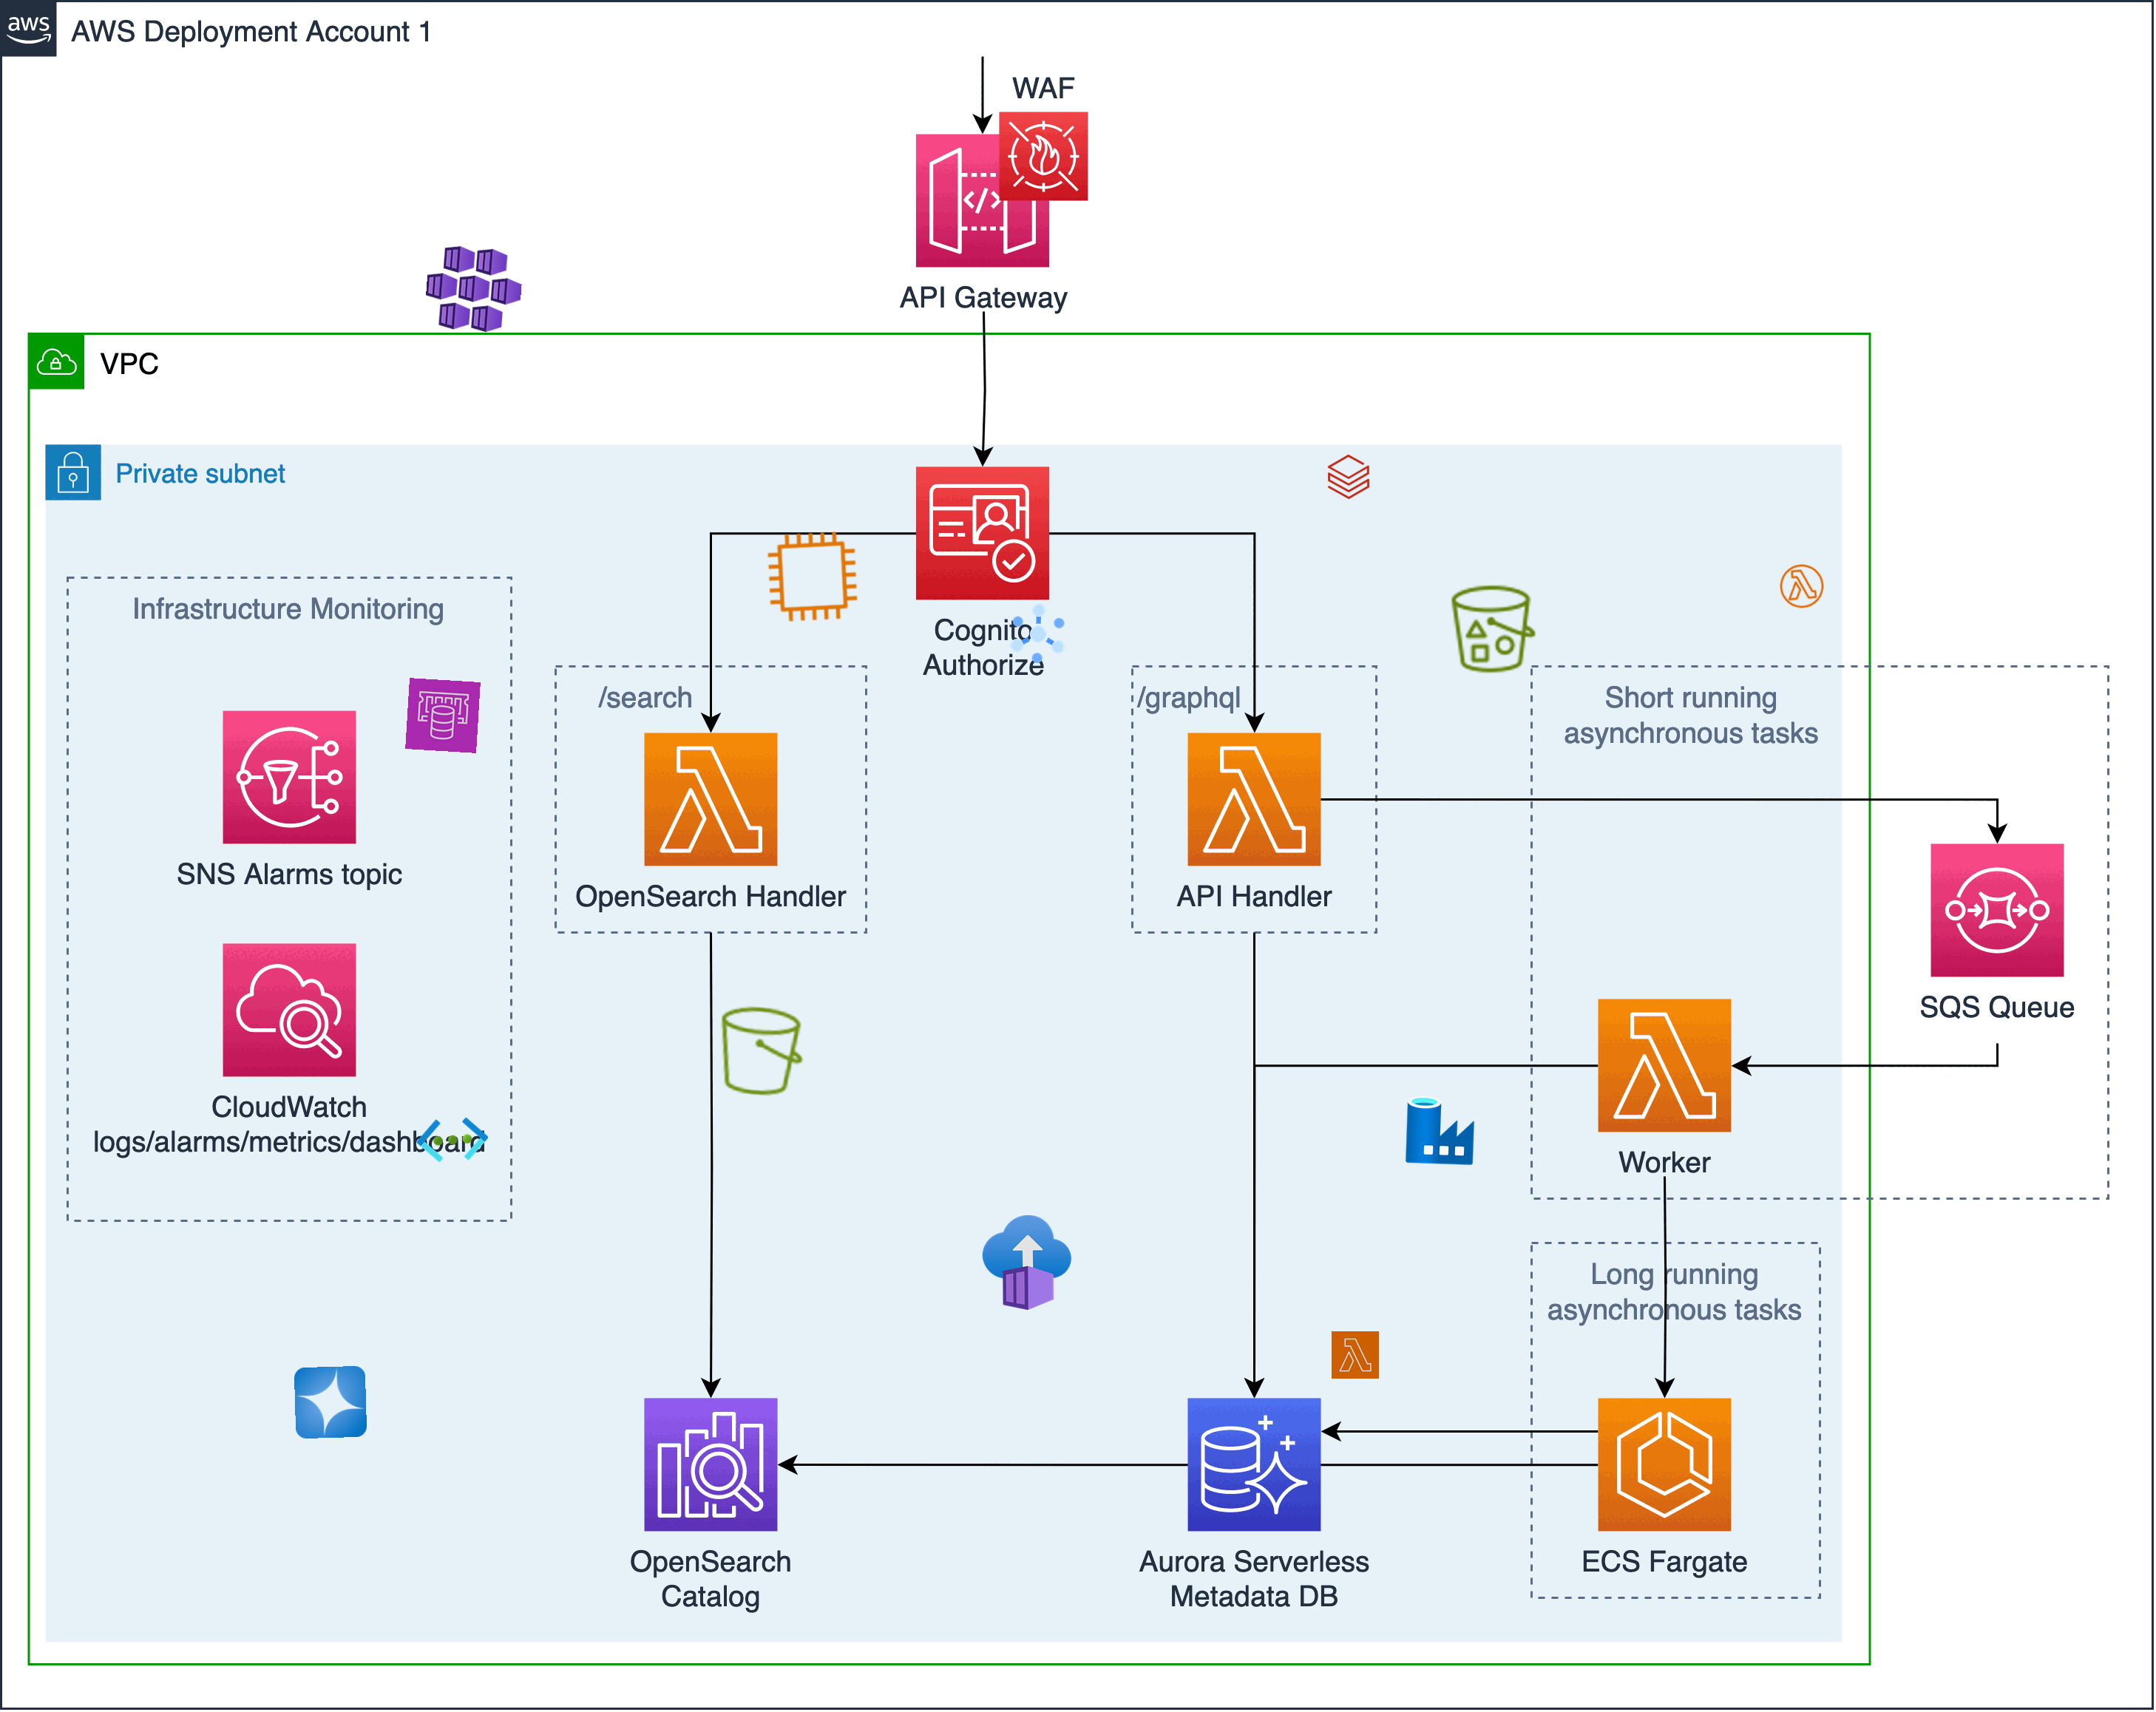aws_amazon_elasticache: (406, 679, 481, 754)
aws_ec2_instance: (763, 526, 863, 626)
aws_lambda: (1330, 1331, 1379, 1380)
aws_lambda_lambda_function: (1776, 560, 1827, 612)
aws_simple_storage_service_bucket_with_objects: (1446, 581, 1542, 677)
aws_simple_storage_service_s3_standard: (709, 1000, 812, 1103)
azure_container_instances: (978, 1215, 1074, 1310)
azure_data_factories: (1404, 1093, 1477, 1166)
azure_databricks: (1325, 453, 1374, 502)
azure_kubernetes_services: (424, 238, 525, 339)
azure_openai: (294, 1366, 367, 1439)
azure_virtual_networks: (415, 1102, 492, 1179)
gcp_pubsub: (1001, 596, 1074, 670)
